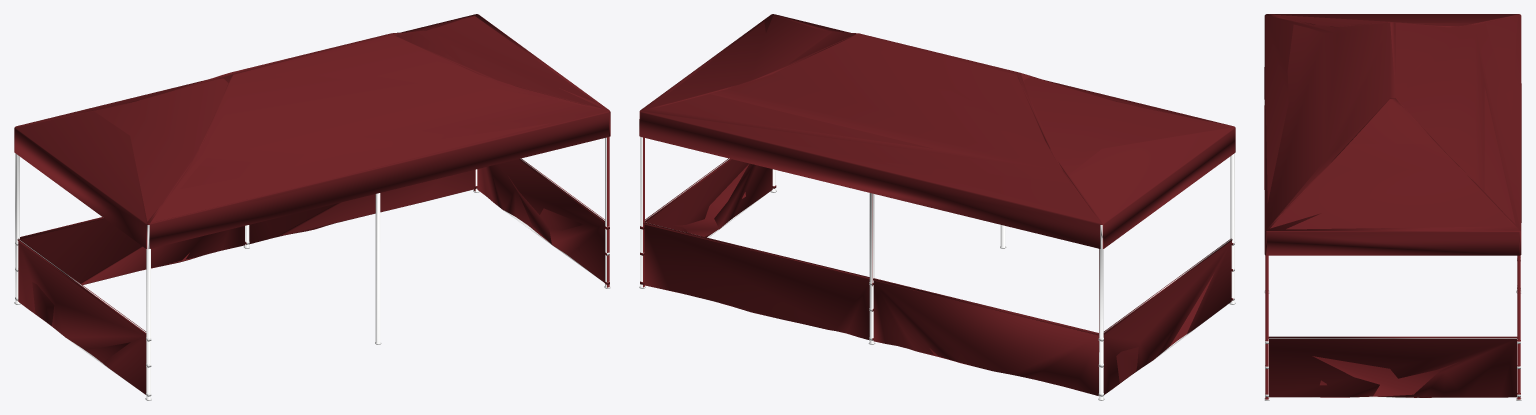
File: Alex_Decimated_Display_Tent_Red.fbx
3 renders of one model, left to right at view 1: azimuth 30°, elevation 25°; view 2: azimuth 150°, elevation 25°; view 3: azimuth 270°, elevation 25°, orthographic. The views are drawn at different scales.
Visible parts, largest first — view 1: Display_Tent; view 2: Display_Tent; view 3: Display_Tent.
Boxes of the visible parts, x1,y1,x2,y2 form: Display_Tent: (14, 14, 610, 400); Display_Tent: (639, 14, 1235, 400); Display_Tent: (1264, 14, 1521, 400).
Size of the model in its own units: 200 by 99.58 by 99.96.
